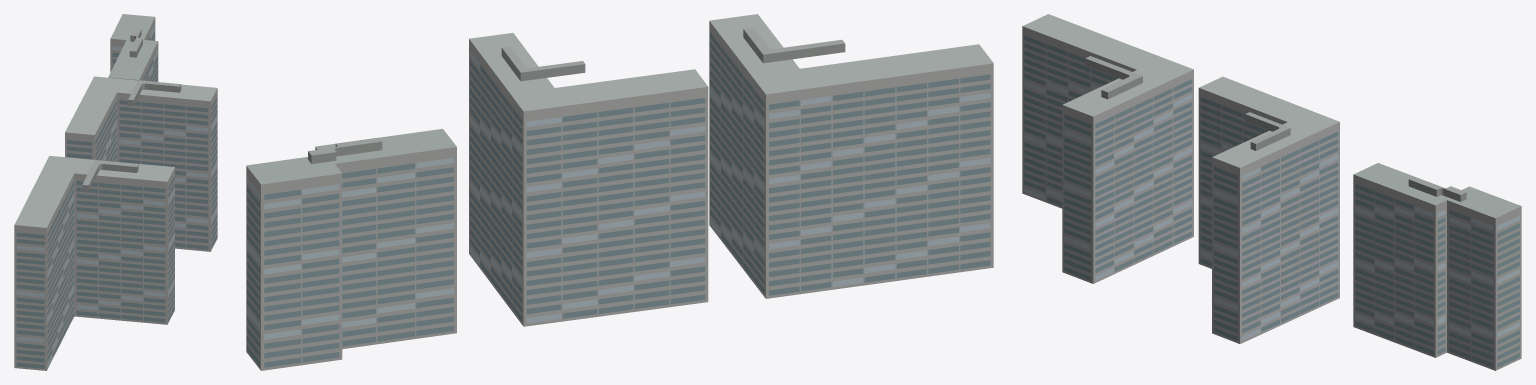
File: apt-a12294102.glb
3 views of the same model, side by side, from view 1: azimuth 30°, elevation 25°; view 2: azimuth 150°, elevation 25°; view 3: azimuth 270°, elevation 25° (orthographic). The views are drawn at different scales.
Visible parts, largest first — view 1: apt-a12294102; view 2: apt-a12294102; view 3: apt-a12294102.
Boxes of the visible parts, <box> form: apt-a12294102: <box>14,14,217,370</box>; apt-a12294102: <box>246,14,993,370</box>; apt-a12294102: <box>1022,14,1521,370</box>.
Bounding box in the file's own units: 137 × 62 × 153.
